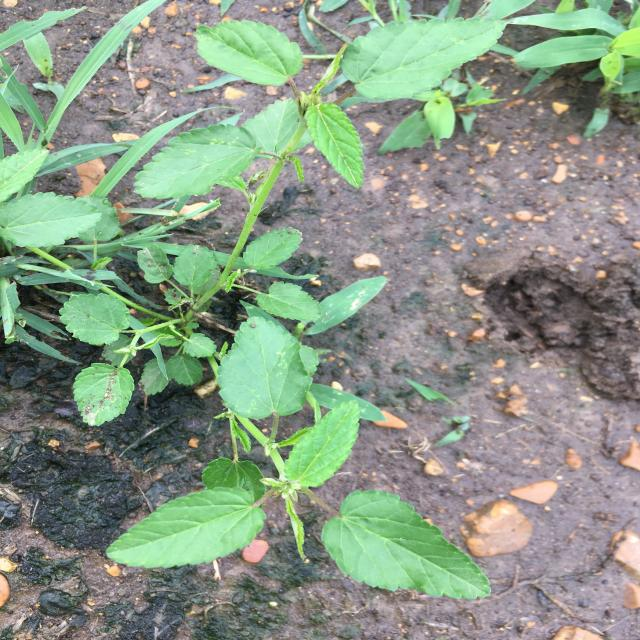PricklySida: (1, 13, 514, 600)
